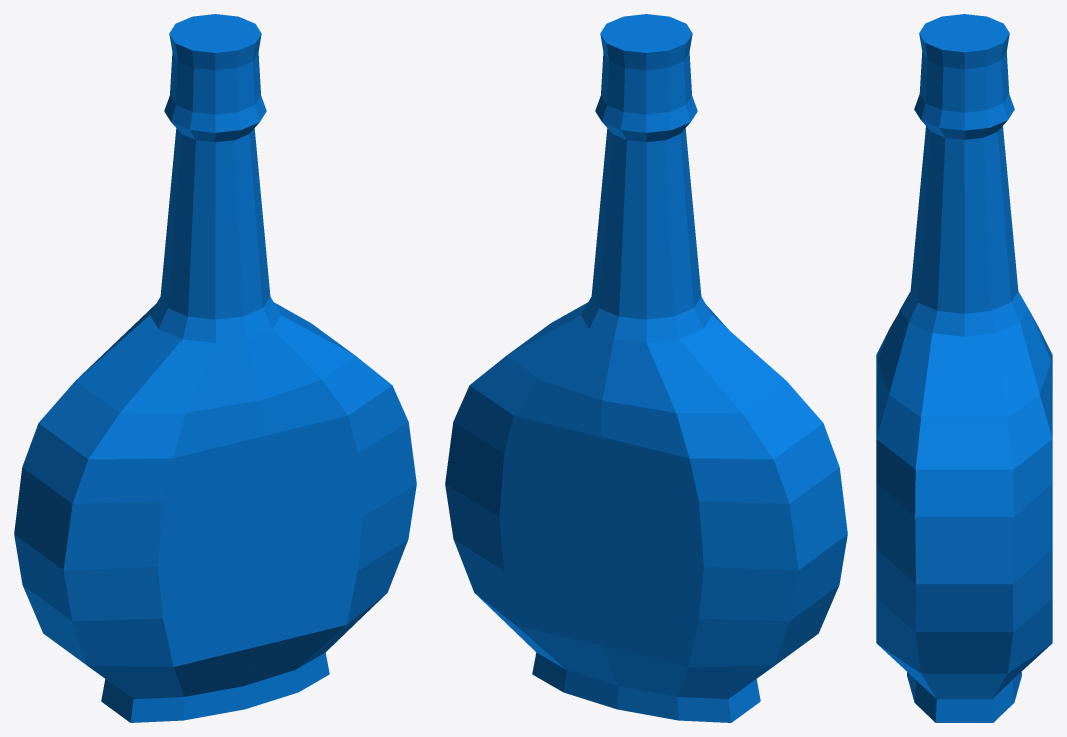
File: Bottle_Liqueur.fbx
3 renders of one model, left to right at view 1: azimuth 30°, elevation 25°; view 2: azimuth 150°, elevation 25°; view 3: azimuth 270°, elevation 25°, orthographic.
Parts seen in each view (by area): view 1: Bottle_Liqueur; view 2: Bottle_Liqueur; view 3: Bottle_Liqueur.
Boxes of the visible parts, x1,y1,x2,y2 form: Bottle_Liqueur: (14,14,416,722); Bottle_Liqueur: (445,14,847,722); Bottle_Liqueur: (876,14,1052,722).
Size of the model in its own units: 12.34 by 21.84 by 5.43.
